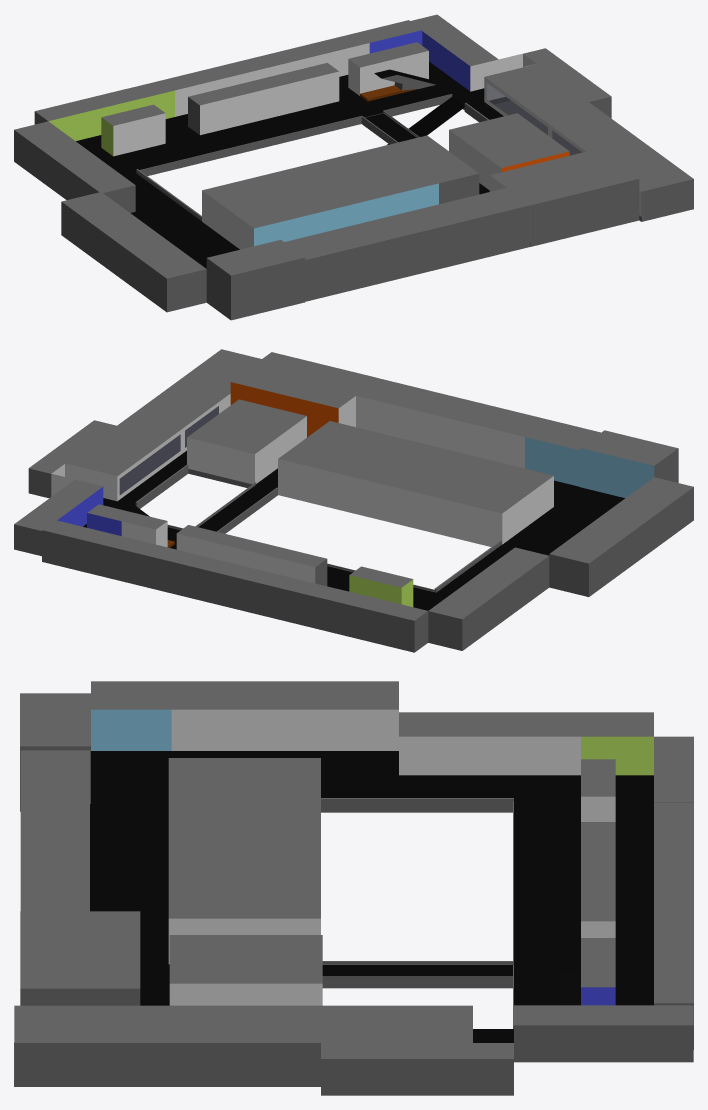
Rendered from School.glb.
3 renders of one model, top to bottom at view 1: azimuth 30°, elevation 25°; view 2: azimuth 150°, elevation 25°; view 3: azimuth 270°, elevation 25°, orthographic. The views are drawn at different scales.
Parts seen in each view (by area): view 1: Cube; view 2: Cube; view 3: Cube.
Boxes of the visible parts, x1,y1,x2,y2 form: Cube: (14,14,693,320); Cube: (14,349,693,652); Cube: (14,681,693,1095).
Size of the model in its own units: 744 by 129 by 573.
